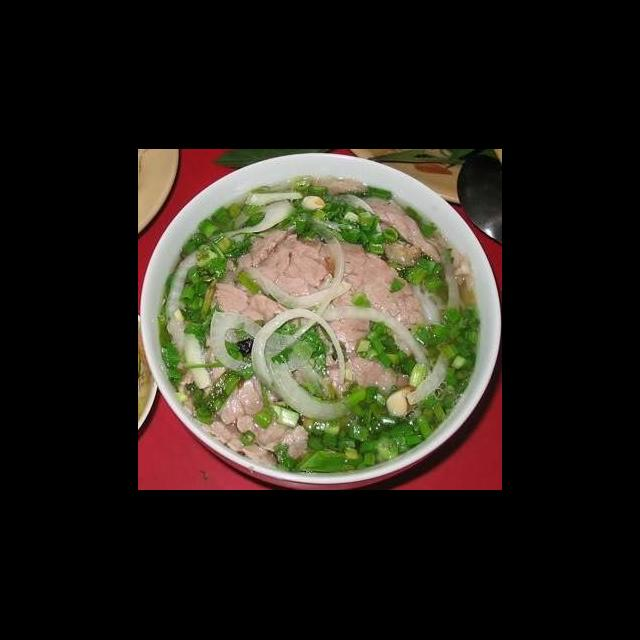thit bo: (172, 344, 317, 474), (200, 278, 297, 388), (319, 314, 427, 400), (334, 238, 426, 332), (215, 224, 335, 296), (361, 192, 447, 270)
